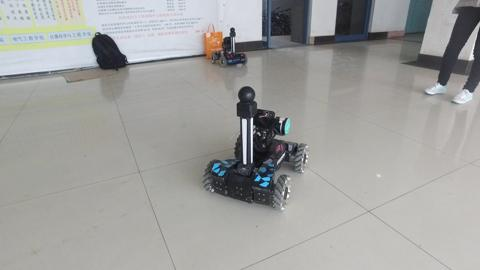bag: (90, 31, 131, 72), (202, 23, 225, 62)
chariot: (201, 83, 311, 213), (209, 26, 249, 68)
